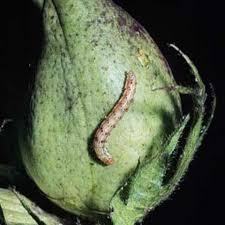insect: (88, 70, 143, 169)
